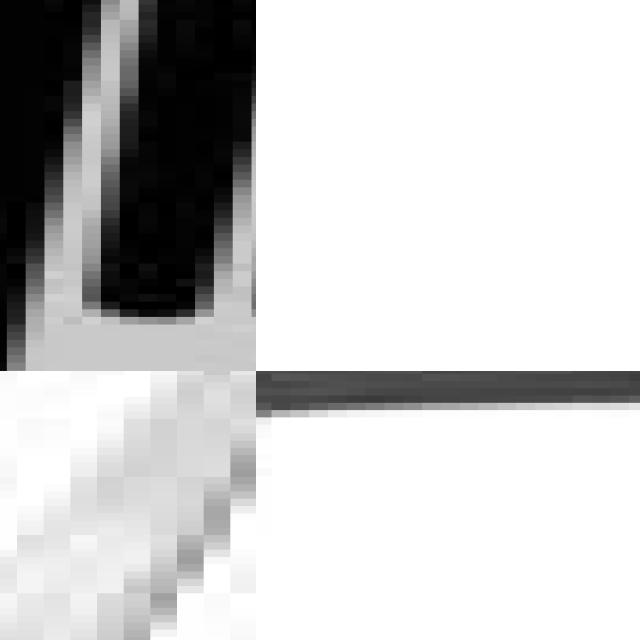forks: (0, 0, 256, 371)
